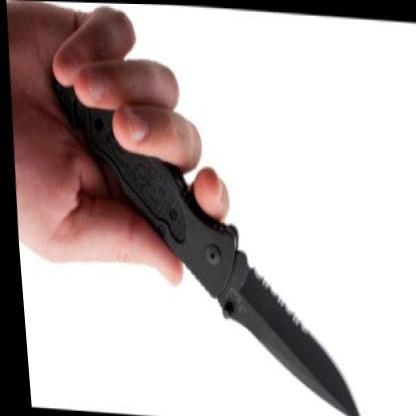knife: (92, 97, 371, 413)
